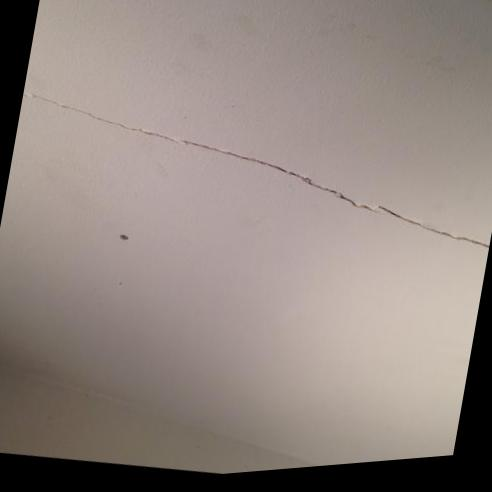crack: (174, 143, 489, 256), (22, 94, 174, 143)
